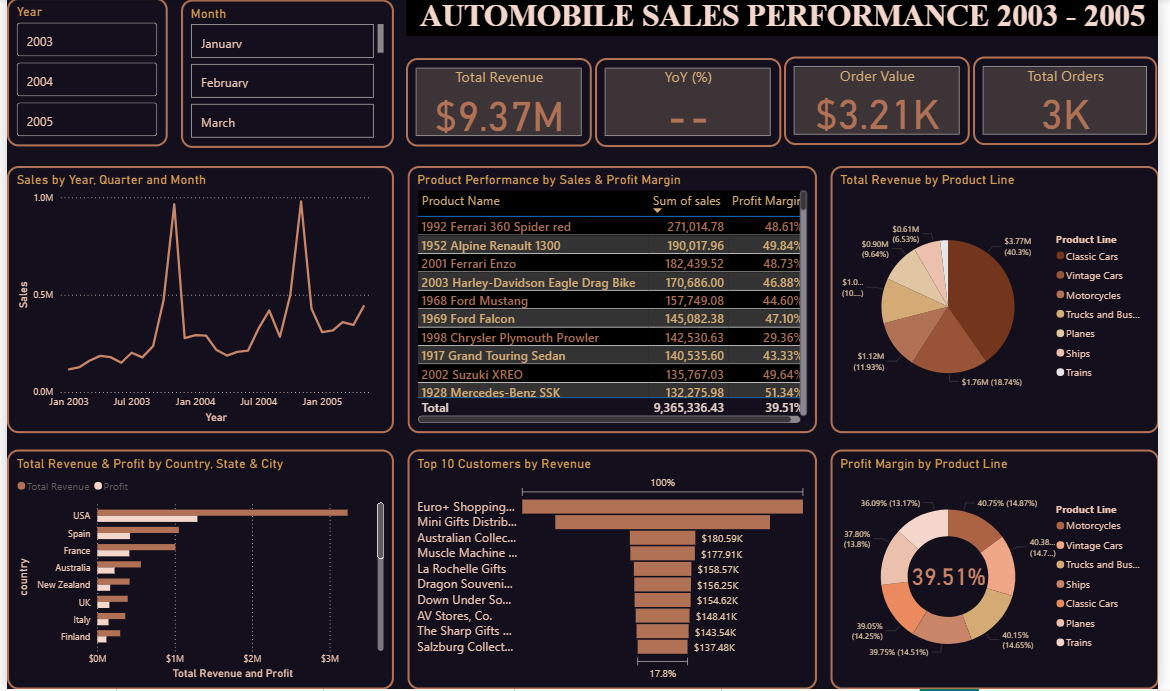

This screenshot's page, from the dashboard's own definition file:
{"tool":"powerbi","page":{"name":"Executive Summary","canvas":[1500,900],"ordinal":0},"visuals":[{"type":"advancedSlicerVisual","fields":{"Values":["Dates.Year"]},"box":[0,0,209,193.4],"z":0,"group":"g3"},{"type":"group","id":"g1","title":"Group 2","box":[519.7,76.2,978.8,119.2],"z":0},{"type":"cardVisual","fields":{"Data":["Sales Query.Total Revenue"]},"box":[519.7,77.2,242.3,115.3],"z":0,"group":"g1"},{"type":"lineChart","fields":{"Category":["Dates.Date.Variation.Date Hierarchy.Year","Dates.Date.Variation.Date Hierarchy.Quarter","Dates.Date.Variation.Date Hierarchy.Month","Dates.Date.Variation.Date Hierarchy.Day"],"Y":["Sum(Sales Query.sales)"]},"box":[0,218.8,504.1,347.8],"z":0,"group":"g5"},{"type":"textbox","title":"AUTOMOBILE SALES PERFORMANCE","box":[519.7,0,980.8,76.2],"z":1000},{"type":"advancedSlicerVisual","fields":{"Values":["Dates.Date.Variation.Date Hierarchy.Month"]},"box":[226.6,2,277.4,193.4],"z":1000,"group":"g3"},{"type":"cardVisual","fields":{"Data":["Sales Query.Total Orders"]},"box":[1258.2,77.1,240.3,115.3],"z":1000,"group":"g1"},{"type":"pieChart","fields":{"Category":["Sales Query.productLine"],"Y":["Sales Query.Total Revenue"]},"box":[1072.6,218.8,427.9,347.8],"z":1000,"group":"g5"},{"type":"group","id":"g2","title":"Group 1","box":[1072.6,588.1,427.9,312.6],"z":1001,"group":"g4"},{"type":"group","id":"g3","title":"Group 3","box":[0,0,504.1,195.4],"z":2000},{"type":"cardVisual","fields":{"Data":["Sales Query.YoY (%)"]},"box":[765.7,78.7,242.8,115.9],"z":2000,"group":"g1"},{"type":"tableEx","title":"Product Performance by Sales & Profit Margin","fields":{"Values":["Sales Query.productName","Sum(Sales Query.sales)","Sales Query.Profit Margin"]},"box":[521.6,218.8,533.4,347.8],"z":2000,"group":"g5"},{"type":"group","id":"g4","title":"Group 4","box":[0,588.1,1500.5,312.6],"z":3000},{"type":"group","id":"g5","title":"Group 5","box":[0,218.8,1500.5,347.8],"z":4000},{"type":"donutChart","fields":{"Category":["Sales Query.productLine"],"Y":["Sales Query.Profit Margin"]},"box":[1072.6,588.1,427.9,312.6],"z":4000,"group":"g2"},{"type":"card","fields":{"Values":["Sales Query.Profit Margin"]},"box":[1158.4,727.9,134.8,46],"z":6000,"group":"g2"},{"type":"cardVisual","fields":{"Data":["Sales Query.Order Value"]},"box":[1012.2,76.2,242.3,115.3],"z":6003,"group":"g1"},{"type":"funnel","title":"Top 10 Customers by Revenue","fields":{"Category":["Sales Query.customerName"],"Y":["Sales Query.Total Revenue"]},"box":[521.6,588.1,533.4,312.6],"z":6005,"group":"g4"},{"type":"clusteredBarChart","title":"Total Revenue & Profit by Country, State & City","fields":{"Category":["Sales Query.country Hierarchy.country","Sales Query.country Hierarchy.state","Sales Query.country Hierarchy.city"],"Y":["Sales Query.Total Revenue","Sales Query.Gross Profit"]},"box":[0,588.1,504.1,312.6],"z":6010,"group":"g4"}]}

Visuals, with their boxes in screenshot pixels (x1, y1, x2, y2), scaled from the page's 1500x900 canvas onto the 1170x691 screenshot:
advancedSlicerVisual - Dates.Year: 0,0,163,148
"Group 2" group: 405,59,1169,150
cardVisual - Sales Query.Total Revenue: 405,59,594,148
lineChart - Dates.Date.Variation.Date Hierarchy.Year x Dates.Date.Variation.Date Hierarchy.Quarter: 0,168,393,435
"AUTOMOBILE SALES PERFORMANCE" textbox: 405,0,1169,59
advancedSlicerVisual - Dates.Date.Variation.Date Hierarchy.Month: 177,2,393,150
cardVisual - Sales Query.Total Orders: 981,59,1169,148
pieChart - Sales Query.productLine x Sales Query.Total Revenue: 837,168,1169,435
"Group 1" group: 837,452,1169,690
"Group 3" group: 0,0,393,150
cardVisual - Sales Query.YoY (%): 597,60,787,149
"Product Performance by Sales & Profit Margin" tableEx: 407,168,823,435
"Group 4" group: 0,452,1169,690
"Group 5" group: 0,168,1169,435
donutChart - Sales Query.productLine x Sales Query.Profit Margin: 837,452,1169,690
card - Sales Query.Profit Margin: 904,559,1009,594
cardVisual - Sales Query.Order Value: 790,59,979,147
"Top 10 Customers by Revenue" funnel: 407,452,823,690
"Total Revenue & Profit by Country, State & City" clusteredBarChart: 0,452,393,690
